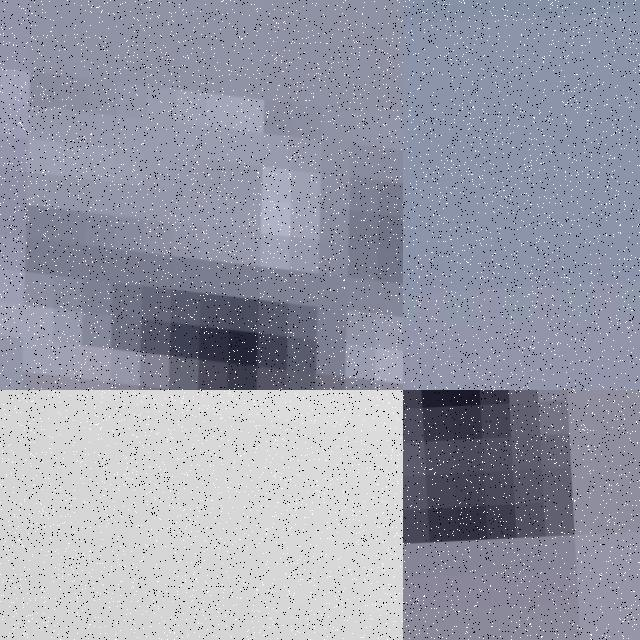0: (0, 0, 403, 390)
drone: (0, 390, 403, 640)
